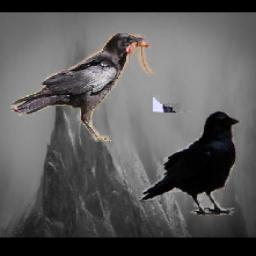Crow: (10, 29, 159, 143), (138, 110, 243, 216), (153, 30, 192, 113)
